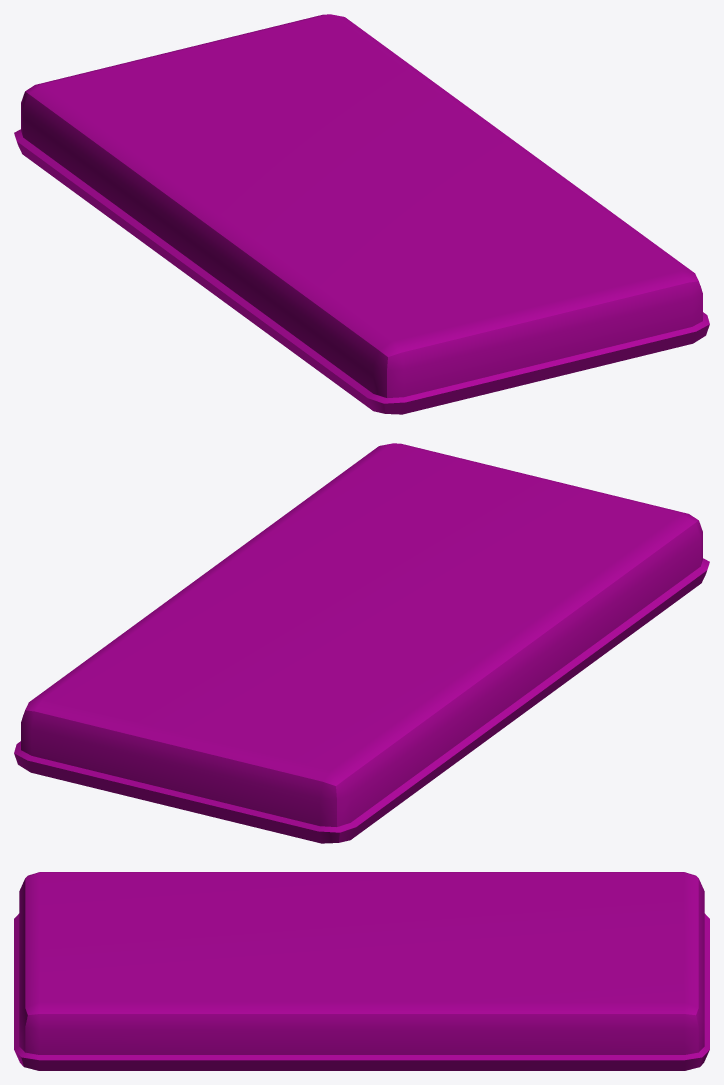
File: ElfHut_Bed.fbx
The picture shows the model from 3 angles, top to bottom: view 1: azimuth 30°, elevation 25°; view 2: azimuth 150°, elevation 25°; view 3: azimuth 270°, elevation 25°; orthographic projection. The views are drawn at different scales.
Parts seen in each view (by area): view 1: polySurface18; view 2: polySurface18; view 3: polySurface18.
Part boxes in pixels (bbox=[...]): polySurface18: bbox=[14, 14, 709, 414]; polySurface18: bbox=[14, 443, 709, 843]; polySurface18: bbox=[14, 872, 709, 1070].
Bounding box in the file's own units: 5.19 × 1 × 10.
